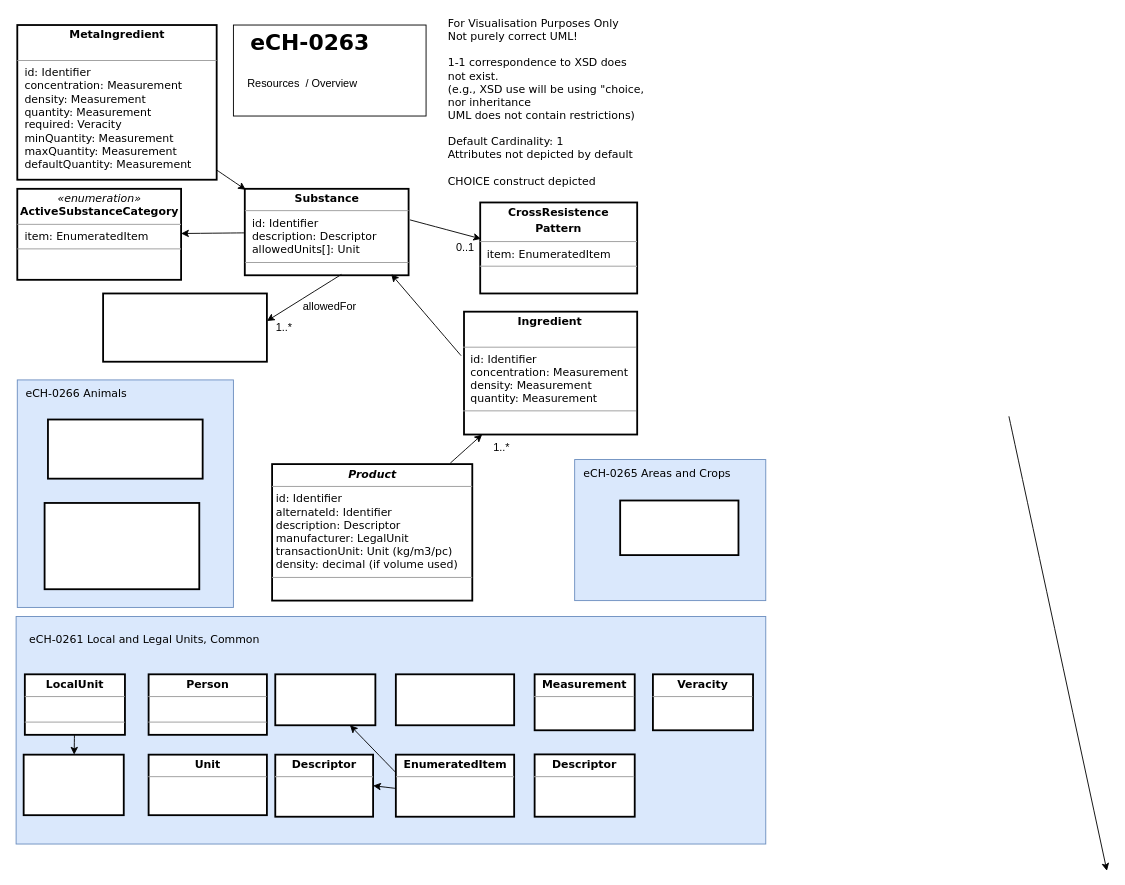
This 1125x885 diagram has some shape labels left out. The box of each missing label's shape, as (x1, y1, x2, y2) in pixels:
BotanicalPlant: (619, 499, 739, 556)
Identifier: (274, 673, 376, 726)
LegalUnit: (22, 753, 124, 816)
ProductFamily + item: EnumeratedItem: (102, 292, 267, 362)
Validity: (394, 673, 515, 726)
ZoologicalAnimal: (47, 418, 203, 479)
«enumeration» Utilisation + item: EnumeratedItem: (43, 502, 200, 590)
